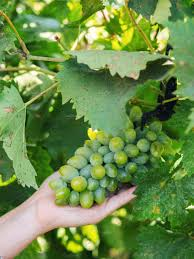grapes: (51, 103, 179, 215)
